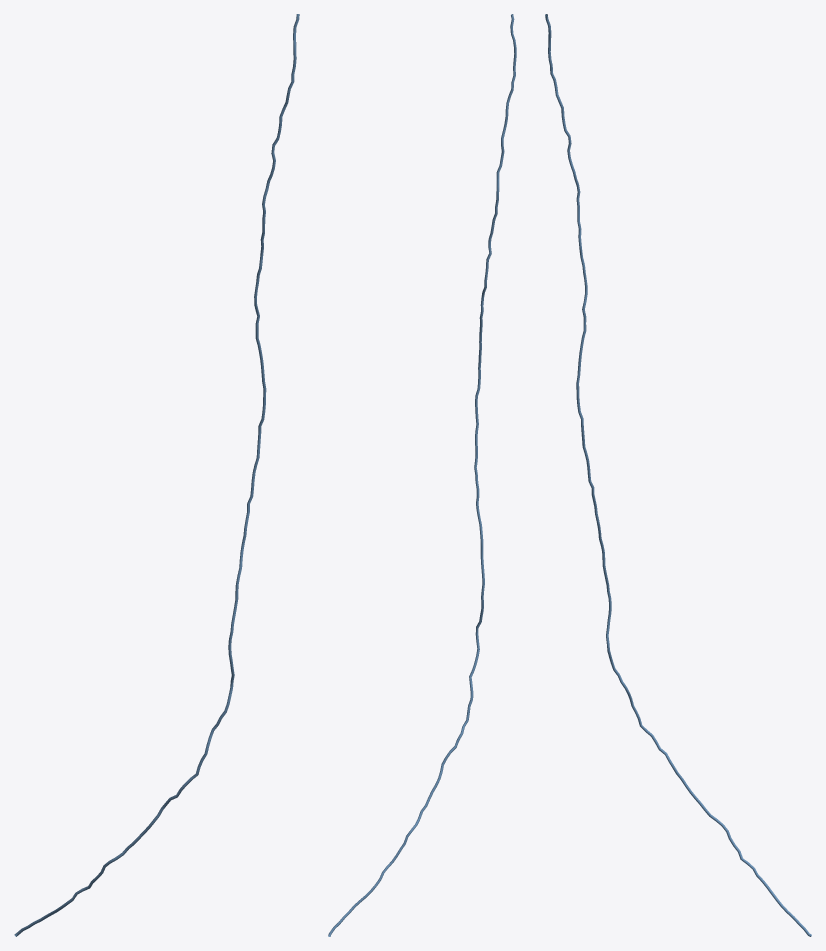
Rendered from sweep18.fbx.
3 renders of one model, left to right at view 1: azimuth 90°, elevation 25°; view 2: azimuth 150°, elevation 25°; view 3: azimuth 270°, elevation 25°, orthographic. The views are drawn at different scales.
Parts seen in each view (by area): view 1: sweep18; view 2: sweep18; view 3: sweep18.
Boxes of the visible parts, box(x1,y1,x2,y2) form: sweep18: box(14, 14, 299, 936); sweep18: box(328, 14, 516, 936); sweep18: box(545, 14, 811, 936).
Bounding box in the file's own units: 0.5527 × 6.85 × 1.86.
